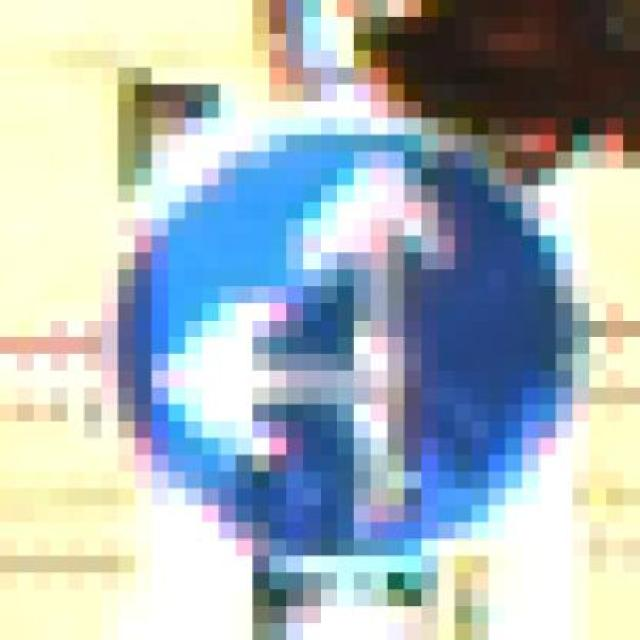Go straight or turn left: (101, 101, 590, 590)
